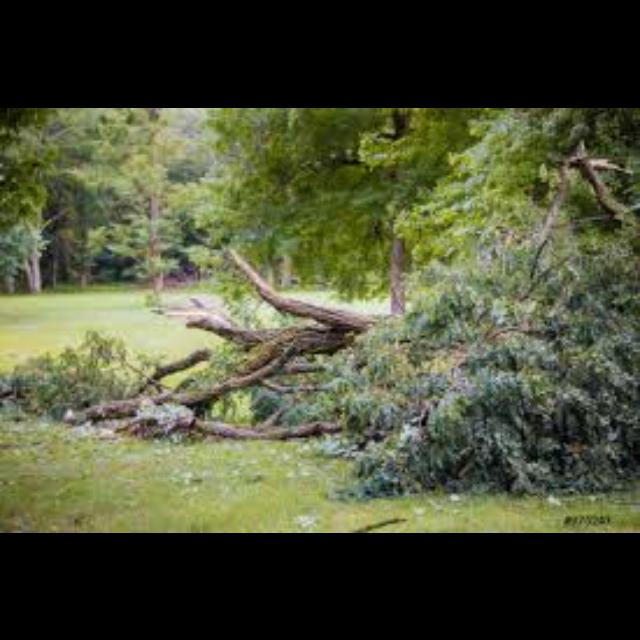Fallen Tree: (90, 240, 640, 428)
